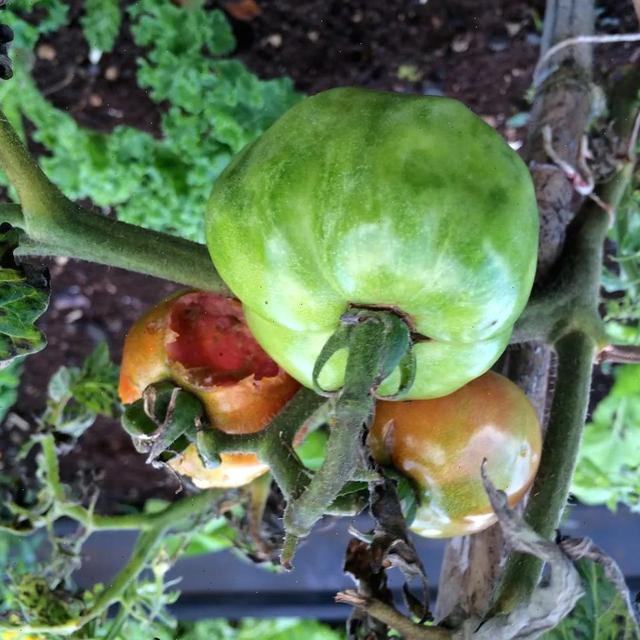Spotted wilt Virus Fruit: (122, 114, 300, 305)
